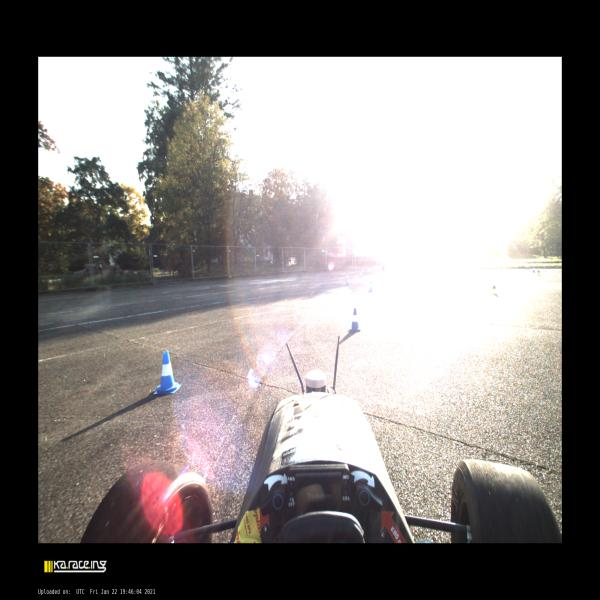blue_cone: (153, 351, 182, 394), (348, 308, 361, 332), (369, 281, 373, 291), (345, 274, 349, 281), (346, 278, 350, 284), (359, 272, 362, 277), (533, 267, 535, 272)
unknown_cone: (381, 261, 386, 271)
yellow_cone: (492, 282, 497, 294), (537, 269, 541, 276)
